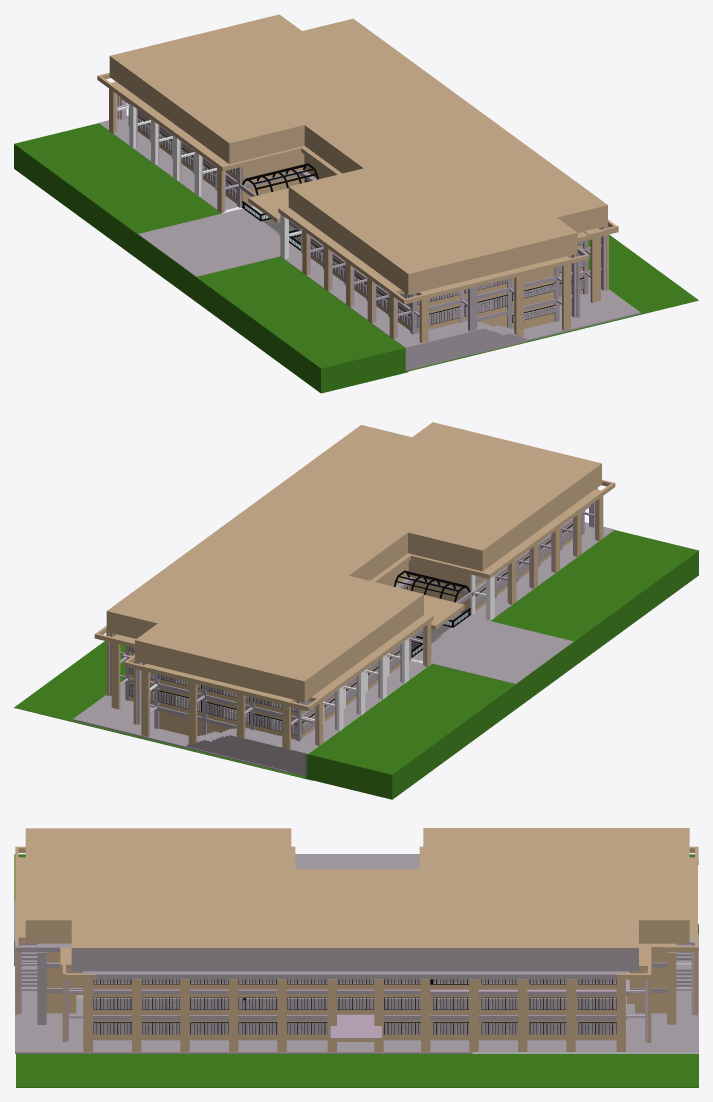
File: Library.glb
3 views of the same model, one above another, from view 1: azimuth 30°, elevation 25°; view 2: azimuth 150°, elevation 25°; view 3: azimuth 270°, elevation 25° (orthographic). The views are drawn at different scales.
Visible parts, largest first — view 1: cube.264; view 2: cube.264; view 3: cube.264.
Part boxes in pixels (bbox=[...]): cube.264: bbox=[14, 14, 698, 393]; cube.264: bbox=[14, 422, 698, 799]; cube.264: bbox=[14, 828, 698, 1087].
Bounding box in the file's own units: 71.38 × 16.81 × 100.
131 materials, 127 textured.
